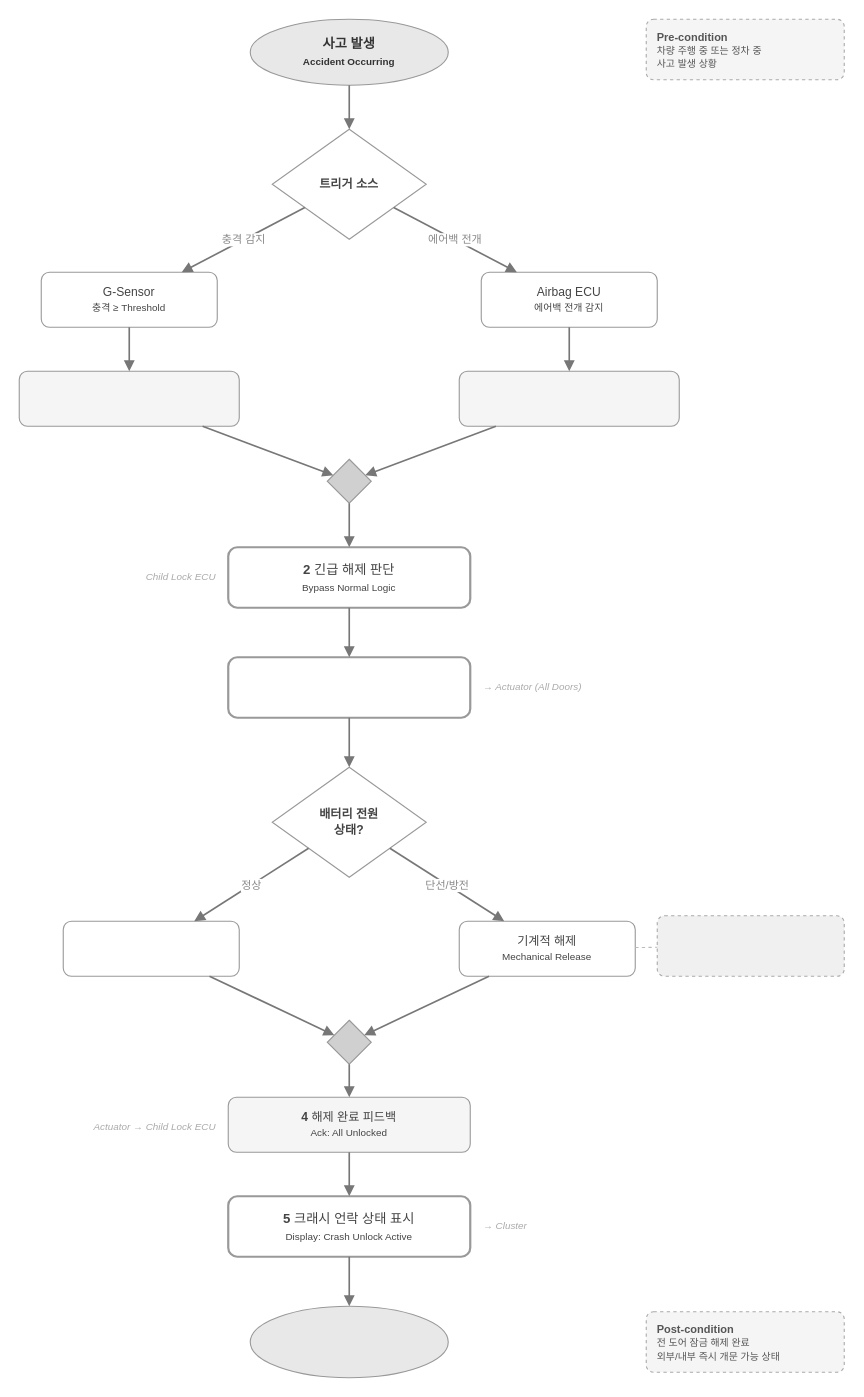
Image size: 864x1397. Some labels were removed from this diagram. Here are the shapes that lost their labels. From the top down, the centre of each, then its label:
pixel 128 398: 1a 충격 감지 신호 전송 Crash Signal → Child Lock ECU
pixel 568 398: 1b 에어백 전개 신호 전송 Airbag Deploy Signal → Child Lock ECU
pixel 349 687: 3 전 도어 강제 해제 명령 Force Unlock All Doors
pixel 150 948: 전자식 해제 Electronic Release
pixel 750 945: ⚠ Fail-Operational 배터리 전원 무관 동작 보장 (ISO 26262)
pixel 348 1341: 6 외부/내부 개문 가능 상태 전환 완료
